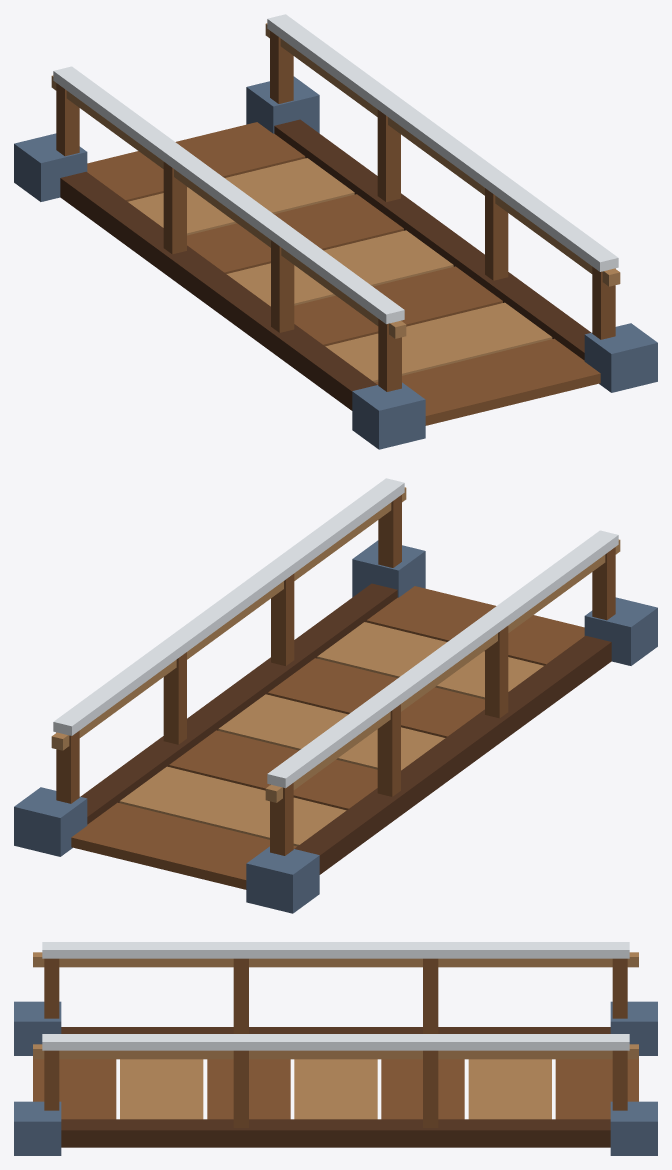
File: bld_bridge.glb
3 renders of one model, top to bottom at view 1: azimuth 30°, elevation 25°; view 2: azimuth 150°, elevation 25°; view 3: azimuth 270°, elevation 25°, orthographic. The views are drawn at different scales.
Visible parts, largest first — view 1: bld_bridge; view 2: bld_bridge; view 3: bld_bridge.
Boxes of the visible parts, <box> form: bld_bridge: <box>14,14,657,449</box>; bld_bridge: <box>14,478,657,913</box>; bld_bridge: <box>14,942,657,1155</box>.
Size of the model in its own units: 3 by 1.21 by 6.8.
1 material, 1 textured.
